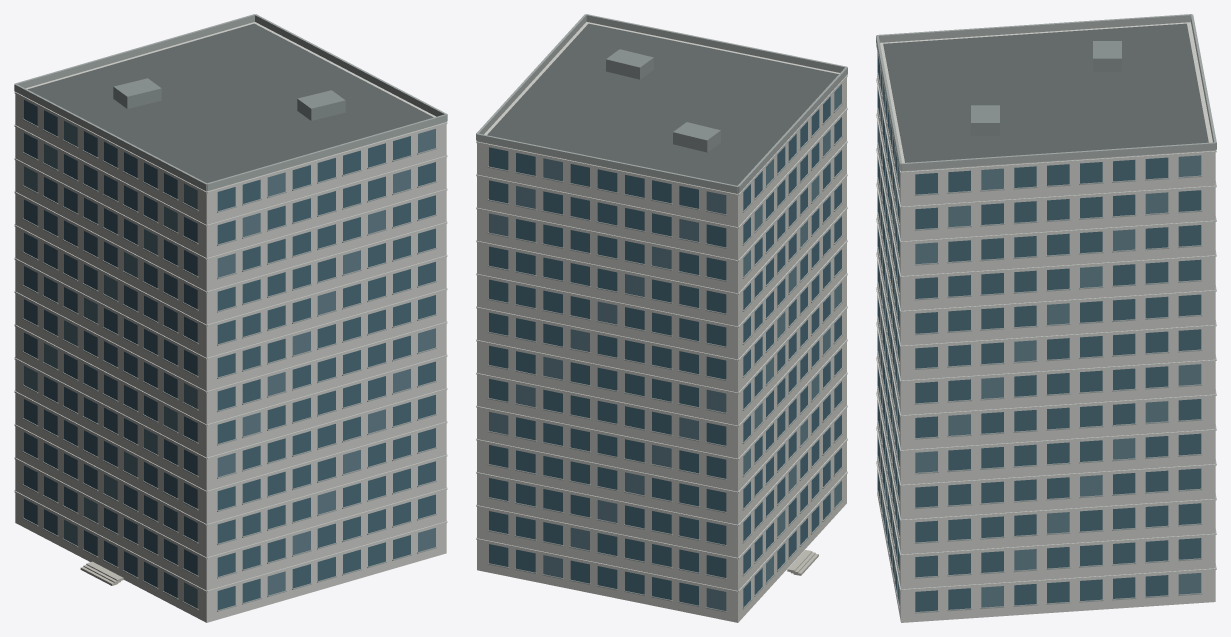
File: 东侧办公园区-002.glb
The picture shows the model from 3 angles, left to right: view 1: azimuth 30°, elevation 25°; view 2: azimuth 150°, elevation 25°; view 3: azimuth 270°, elevation 25°; orthographic projection. The views are drawn at different scales.
Visible parts, largest first — view 1: 东侧办公园区-002; view 2: 东侧办公园区-002; view 3: 东侧办公园区-002.
Boxes of the visible parts, x1,y1,x2,y2 form: 东侧办公园区-002: (14,14,447,622); 东侧办公园区-002: (476,14,847,622); 东侧办公园区-002: (876,14,1216,622).
Bounding box in the file's own units: 34.19 × 49.42 × 32.78.
